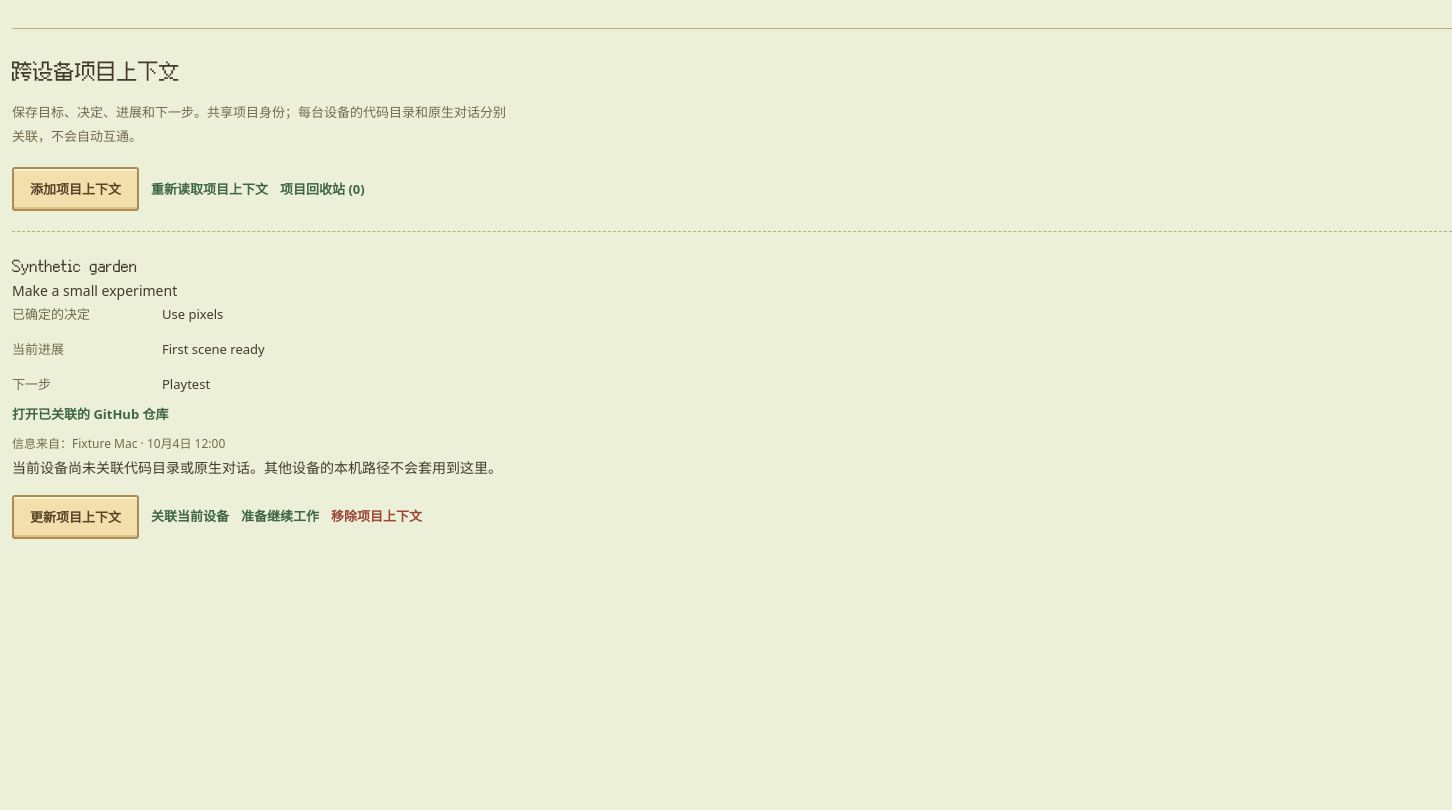
shared project identity and local links › only prepares selected project context on confirmation and states missing local code truthfully
Click the button "准备继续工作". click: {"x": 280, "y": 517}
box: [241,498,319,535]
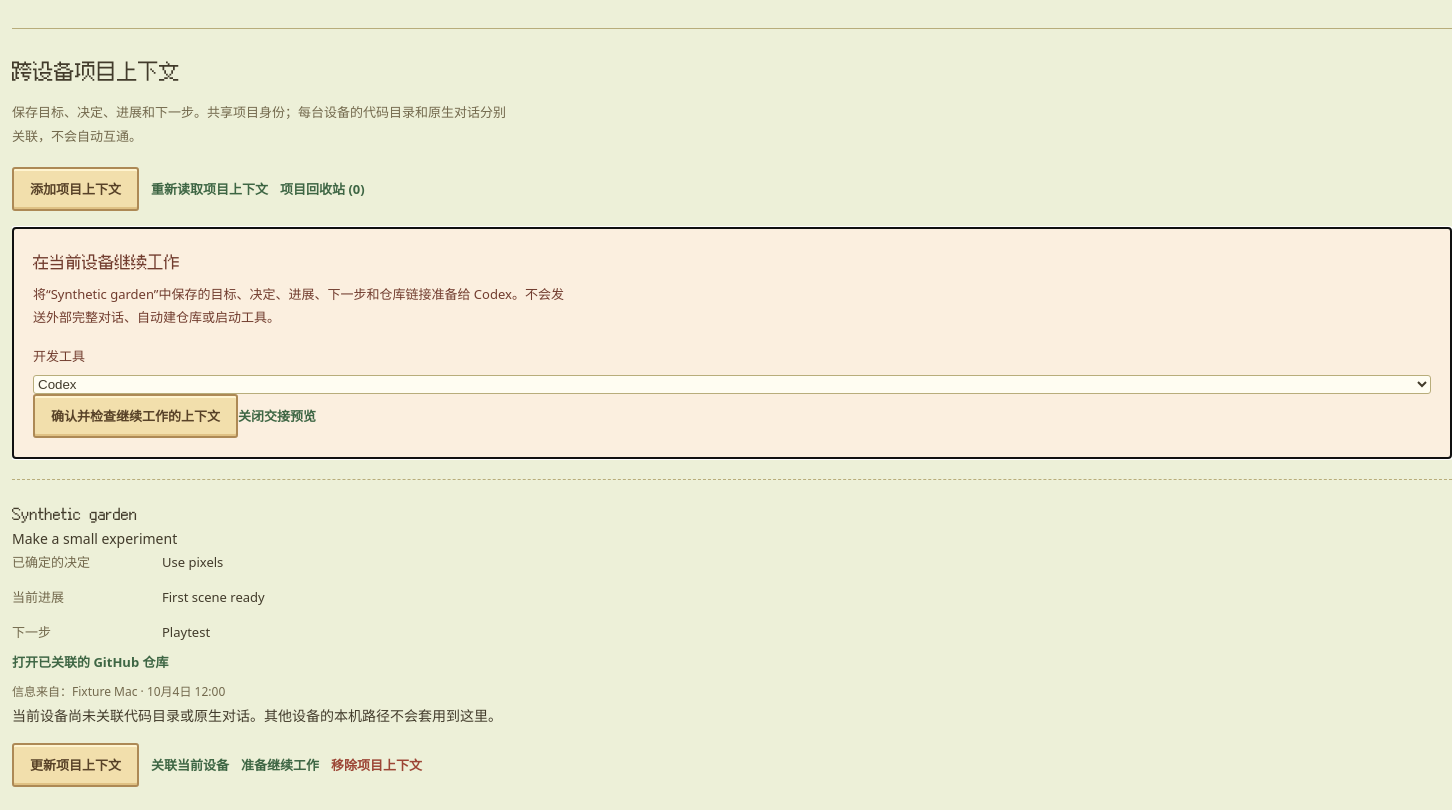
Click the button "确认并检查继续工作的上下文". click: {"x": 136, "y": 416}
box: [33,394,238,438]
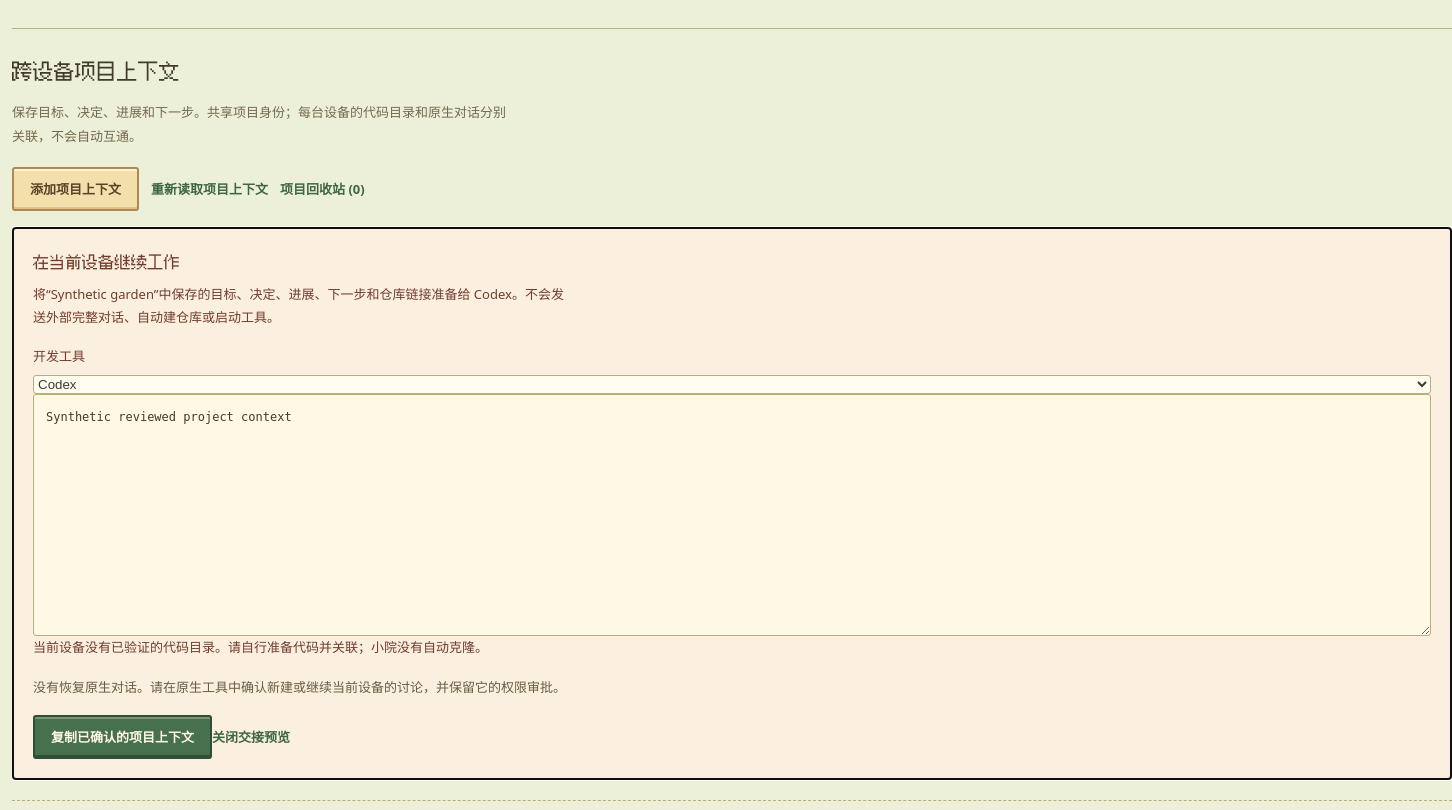
Expected: the text "没有已验证的代码目录" is shown, [33,638,488,656]
Expected: the text "没有恢复原生对话" is shown, [33,678,566,696]
Expected: the text box named "继续工作的项目上下文" holds "Synthetic reviewed project context", [33,394,1431,636]
